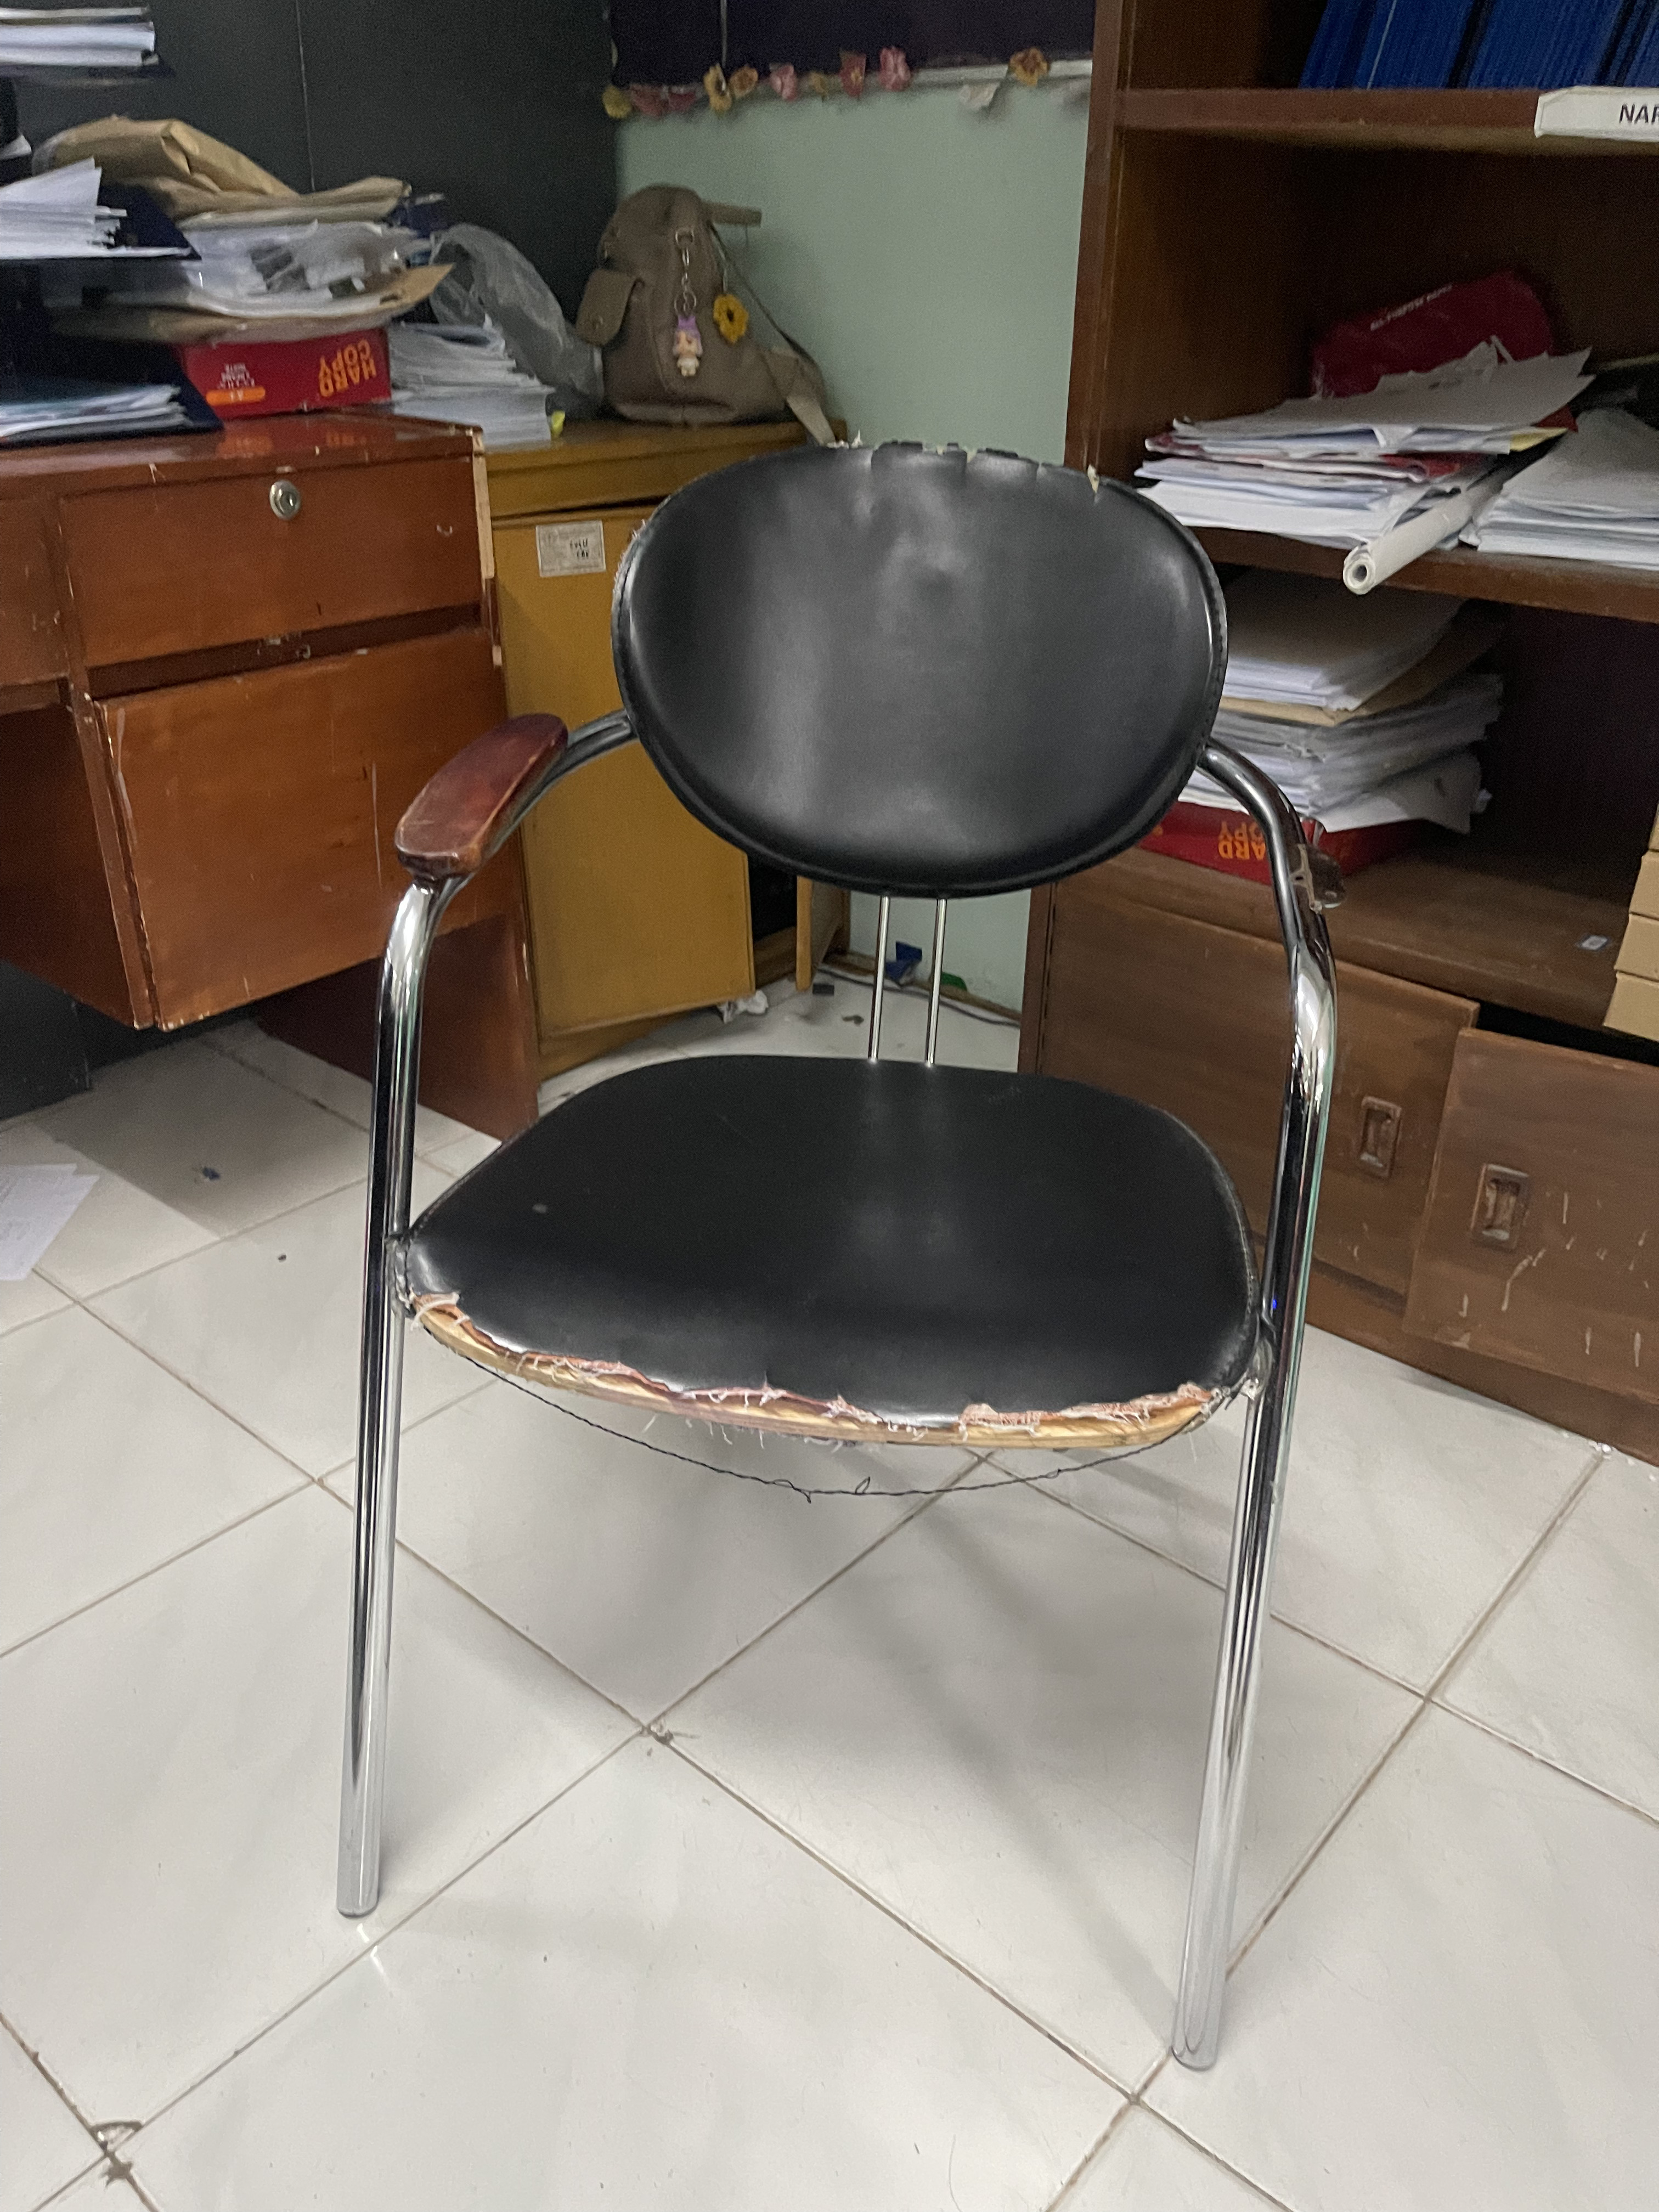chair1: (326, 435, 1349, 2109)
